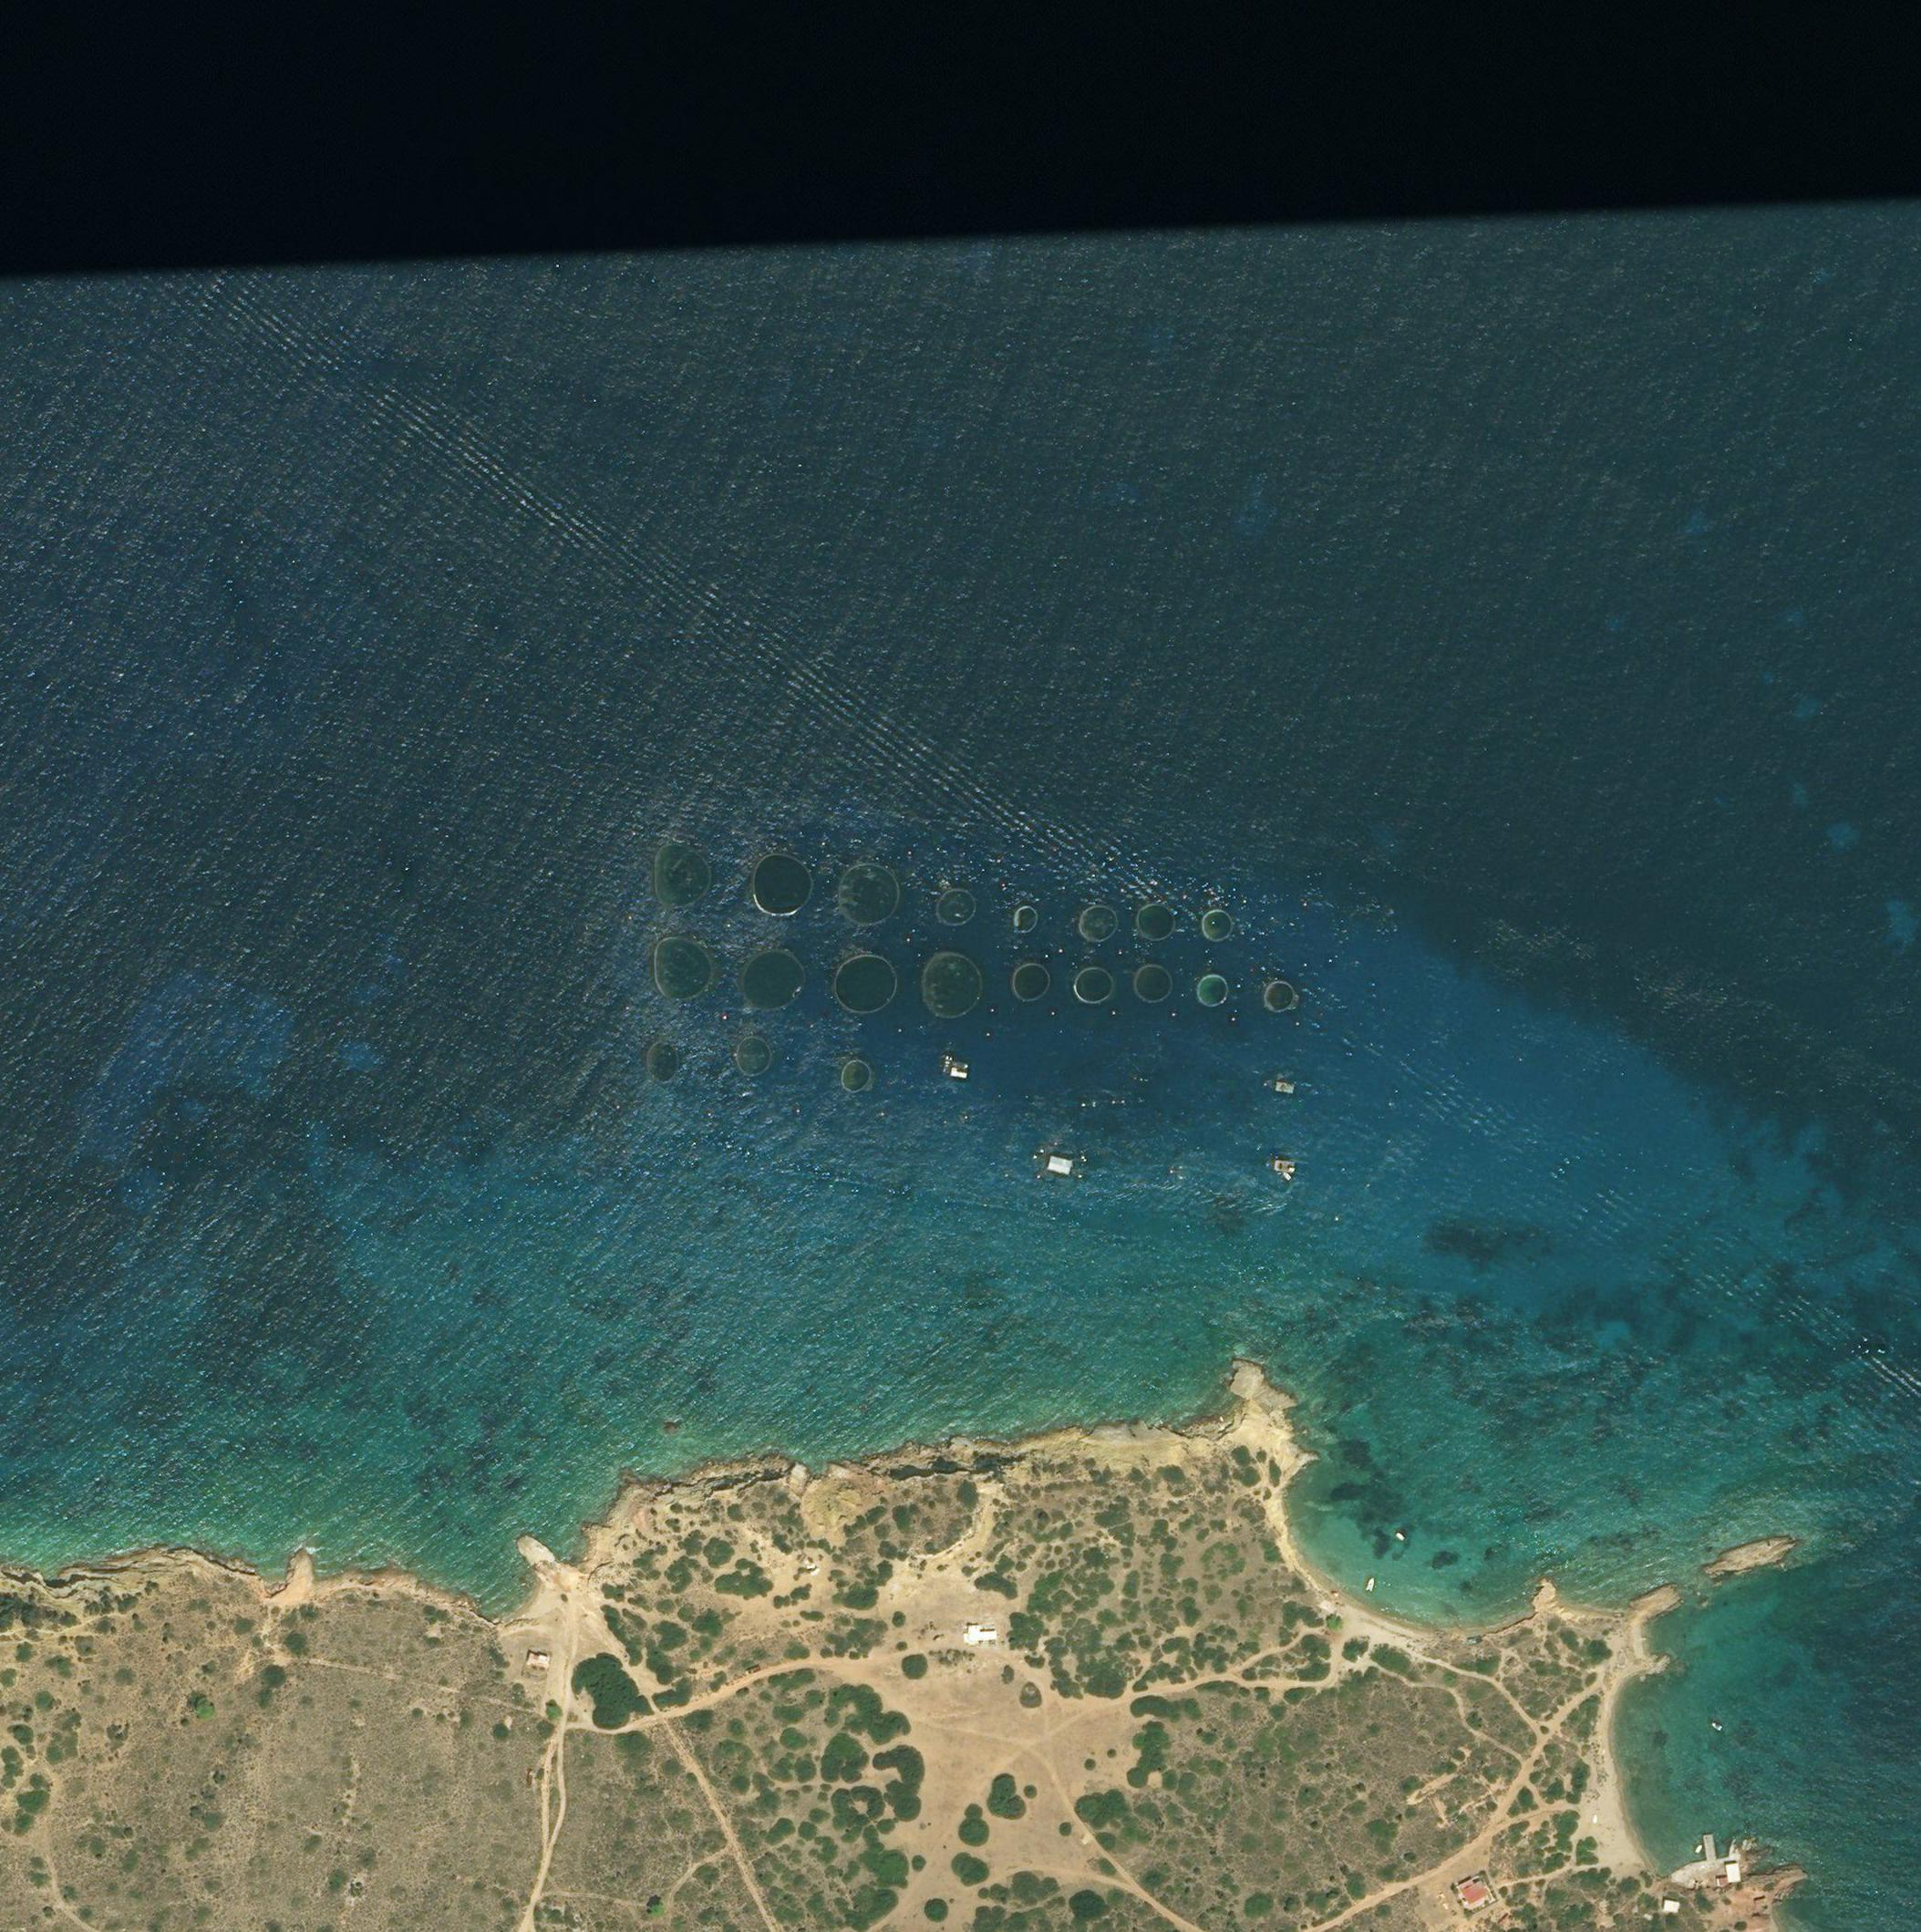c: (918, 950, 983, 1019), (741, 948, 807, 1012), (836, 862, 902, 926), (830, 954, 897, 1015), (753, 852, 813, 918), (653, 936, 714, 999), (653, 843, 711, 908), (1133, 964, 1175, 1005), (936, 889, 978, 927), (1135, 903, 1177, 941), (1073, 966, 1114, 1005), (1012, 962, 1050, 1001), (1080, 904, 1119, 941), (735, 1036, 771, 1077), (646, 1042, 679, 1084), (1196, 973, 1230, 1008), (1200, 908, 1233, 941), (1263, 980, 1296, 1014), (841, 1059, 871, 1093), (1012, 906, 1040, 934)
